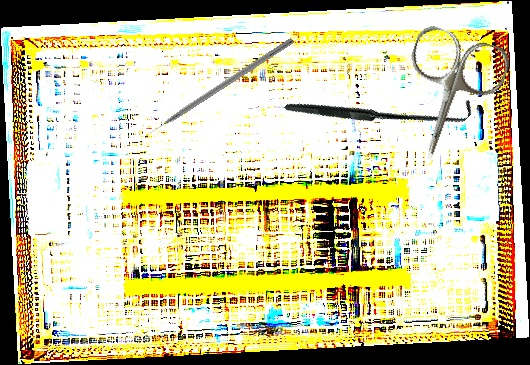Hook Surgical: (283, 11, 478, 205), (142, 35, 295, 139)
Iris Scissors: (382, 22, 514, 174)
